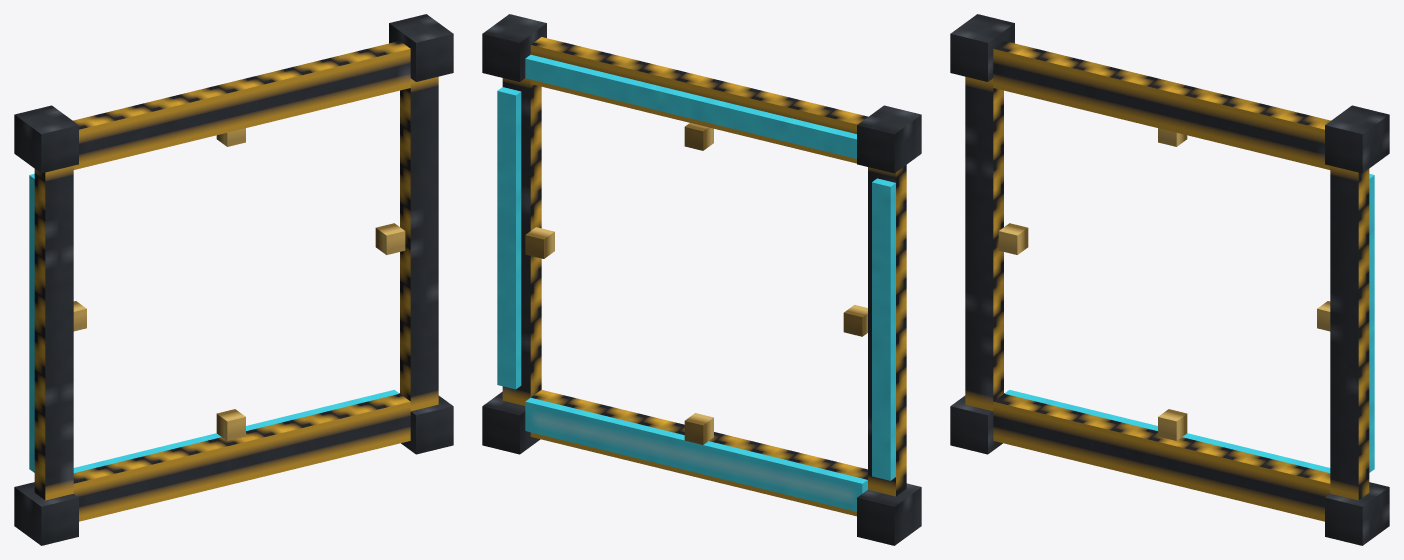
Rendered from loadout_station_ring.obj.
3 views of the same model, side by side, from view 1: azimuth 30°, elevation 25°; view 2: azimuth 150°, elevation 25°; view 3: azimuth 330°, elevation 25° (orthographic).
Parts seen in each view (by area): view 1: loadout_station_ring_Bar_back, loadout_station_ring_Bar_front, loadout_station_ring_Bar_R, loadout_station_ring_Bar_L, loadout_station_ring_Sleeve_BR, loadout_station_ring_Sleeve_FR, loadout_station_ring_Sleeve_BL, loadout_station_ring_Sleeve_FL, loadout_station_ring_Print_R, loadout_station_ring_Print_front, loadout_station_ring_Nozzle_E, loadout_station_ring_Nozzle_N; view 2: loadout_station_ring_Print_front, loadout_station_ring_Bar_back, loadout_station_ring_Print_back, loadout_station_ring_Print_L, loadout_station_ring_Print_R, loadout_station_ring_Bar_L, loadout_station_ring_Bar_R, loadout_station_ring_Bar_front, loadout_station_ring_Sleeve_BR, loadout_station_ring_Sleeve_FR, loadout_station_ring_Sleeve_BL, loadout_station_ring_Sleeve_FL (+4 smaller); view 3: loadout_station_ring_Bar_back, loadout_station_ring_Bar_front, loadout_station_ring_Bar_L, loadout_station_ring_Bar_R, loadout_station_ring_Sleeve_BL, loadout_station_ring_Sleeve_FL, loadout_station_ring_Sleeve_BR, loadout_station_ring_Sleeve_FR, loadout_station_ring_Print_L, loadout_station_ring_Print_front, loadout_station_ring_Nozzle_W, loadout_station_ring_Nozzle_N.
Part boxes in pixels (x1,y1,x2,y2): loadout_station_ring_Bar_back: (73, 41, 410, 169); loadout_station_ring_Bar_front: (73, 393, 410, 521); loadout_station_ring_Bar_R: (34, 165, 73, 500); loadout_station_ring_Bar_L: (400, 76, 438, 411); loadout_station_ring_Sleeve_BR: (14, 105, 78, 173); loadout_station_ring_Sleeve_FR: (14, 482, 78, 545); loadout_station_ring_Sleeve_BL: (389, 14, 453, 81); loadout_station_ring_Sleeve_FL: (399, 393, 453, 454); loadout_station_ring_Print_R: (29, 173, 34, 472); loadout_station_ring_Print_front: (73, 389, 399, 472); loadout_station_ring_Nozzle_E: (375, 223, 405, 254); loadout_station_ring_Nozzle_N: (216, 409, 245, 440); loadout_station_ring_Print_front: (525, 397, 867, 511); loadout_station_ring_Bar_back: (530, 37, 867, 163); loadout_station_ring_Print_back: (525, 54, 856, 158); loadout_station_ring_Print_L: (497, 87, 521, 389); loadout_station_ring_Print_R: (872, 178, 895, 480); loadout_station_ring_Bar_L: (502, 78, 541, 405); loadout_station_ring_Bar_R: (868, 165, 906, 496); loadout_station_ring_Bar_front: (530, 389, 867, 516); loadout_station_ring_Sleeve_BR: (857, 105, 921, 173); loadout_station_ring_Sleeve_FR: (857, 483, 921, 545); loadout_station_ring_Sleeve_BL: (482, 14, 546, 81); loadout_station_ring_Sleeve_FL: (482, 391, 540, 454); loadout_station_ring_Bar_back: (993, 41, 1330, 169); loadout_station_ring_Bar_front: (993, 393, 1330, 521); loadout_station_ring_Bar_L: (1330, 165, 1369, 500); loadout_station_ring_Bar_R: (965, 76, 1003, 411); loadout_station_ring_Sleeve_BL: (1325, 105, 1389, 173); loadout_station_ring_Sleeve_FL: (1325, 482, 1389, 545); loadout_station_ring_Sleeve_BR: (950, 14, 1014, 81); loadout_station_ring_Sleeve_FR: (950, 393, 1004, 454); loadout_station_ring_Print_L: (1369, 173, 1374, 472); loadout_station_ring_Print_front: (1004, 389, 1330, 472); loadout_station_ring_Nozzle_W: (998, 223, 1028, 254); loadout_station_ring_Nozzle_N: (1158, 409, 1187, 440).
Size of the model in its own units: 1.38 by 1.31 by 0.1562.
